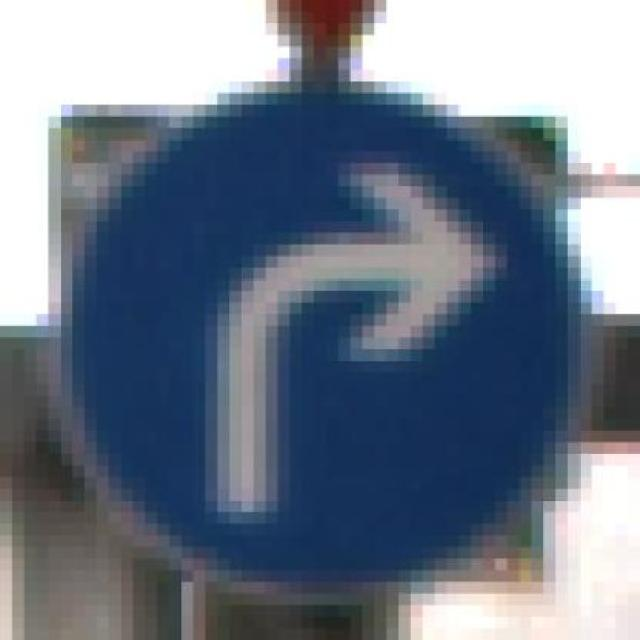Turn right ahead: (49, 81, 592, 617)
